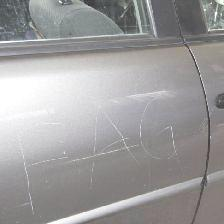door_scratch: (15, 92, 195, 219)
